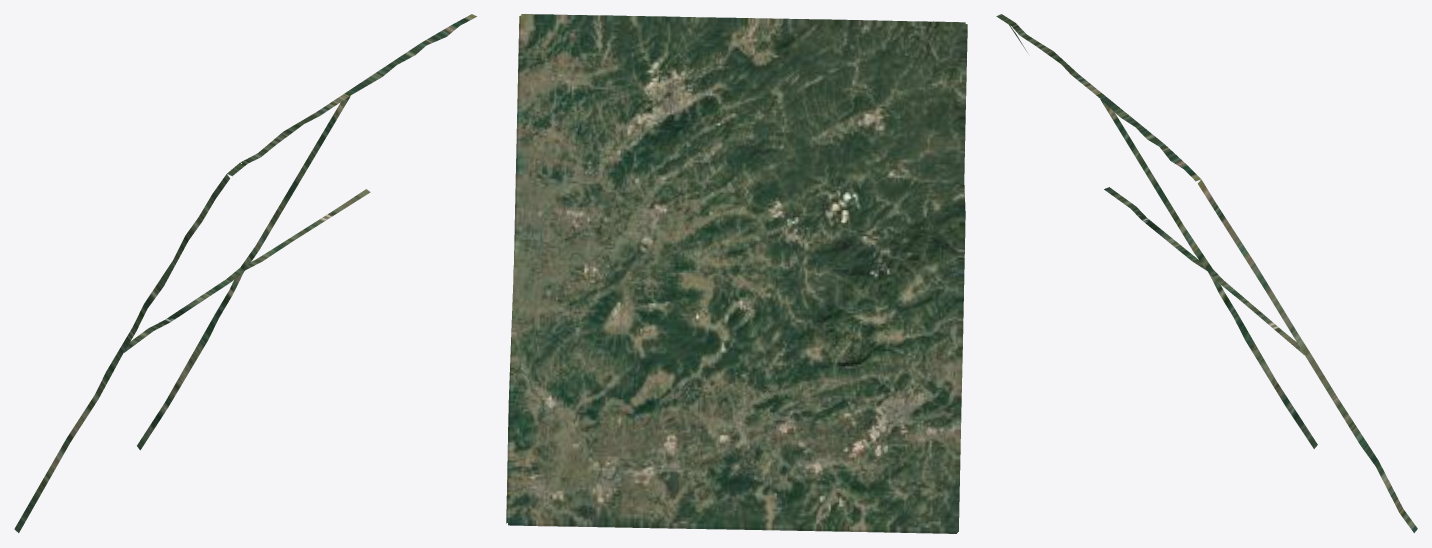
3 views of the same model, side by side, from view 1: azimuth 30°, elevation 25°; view 2: azimuth 150°, elevation 25°; view 3: azimuth 270°, elevation 25° (orthographic). The views are drawn at different scales.
Bounding box in the file's own units: 159097 × 139631 × 132195.
Materials: 1 (1 with a texture image).
